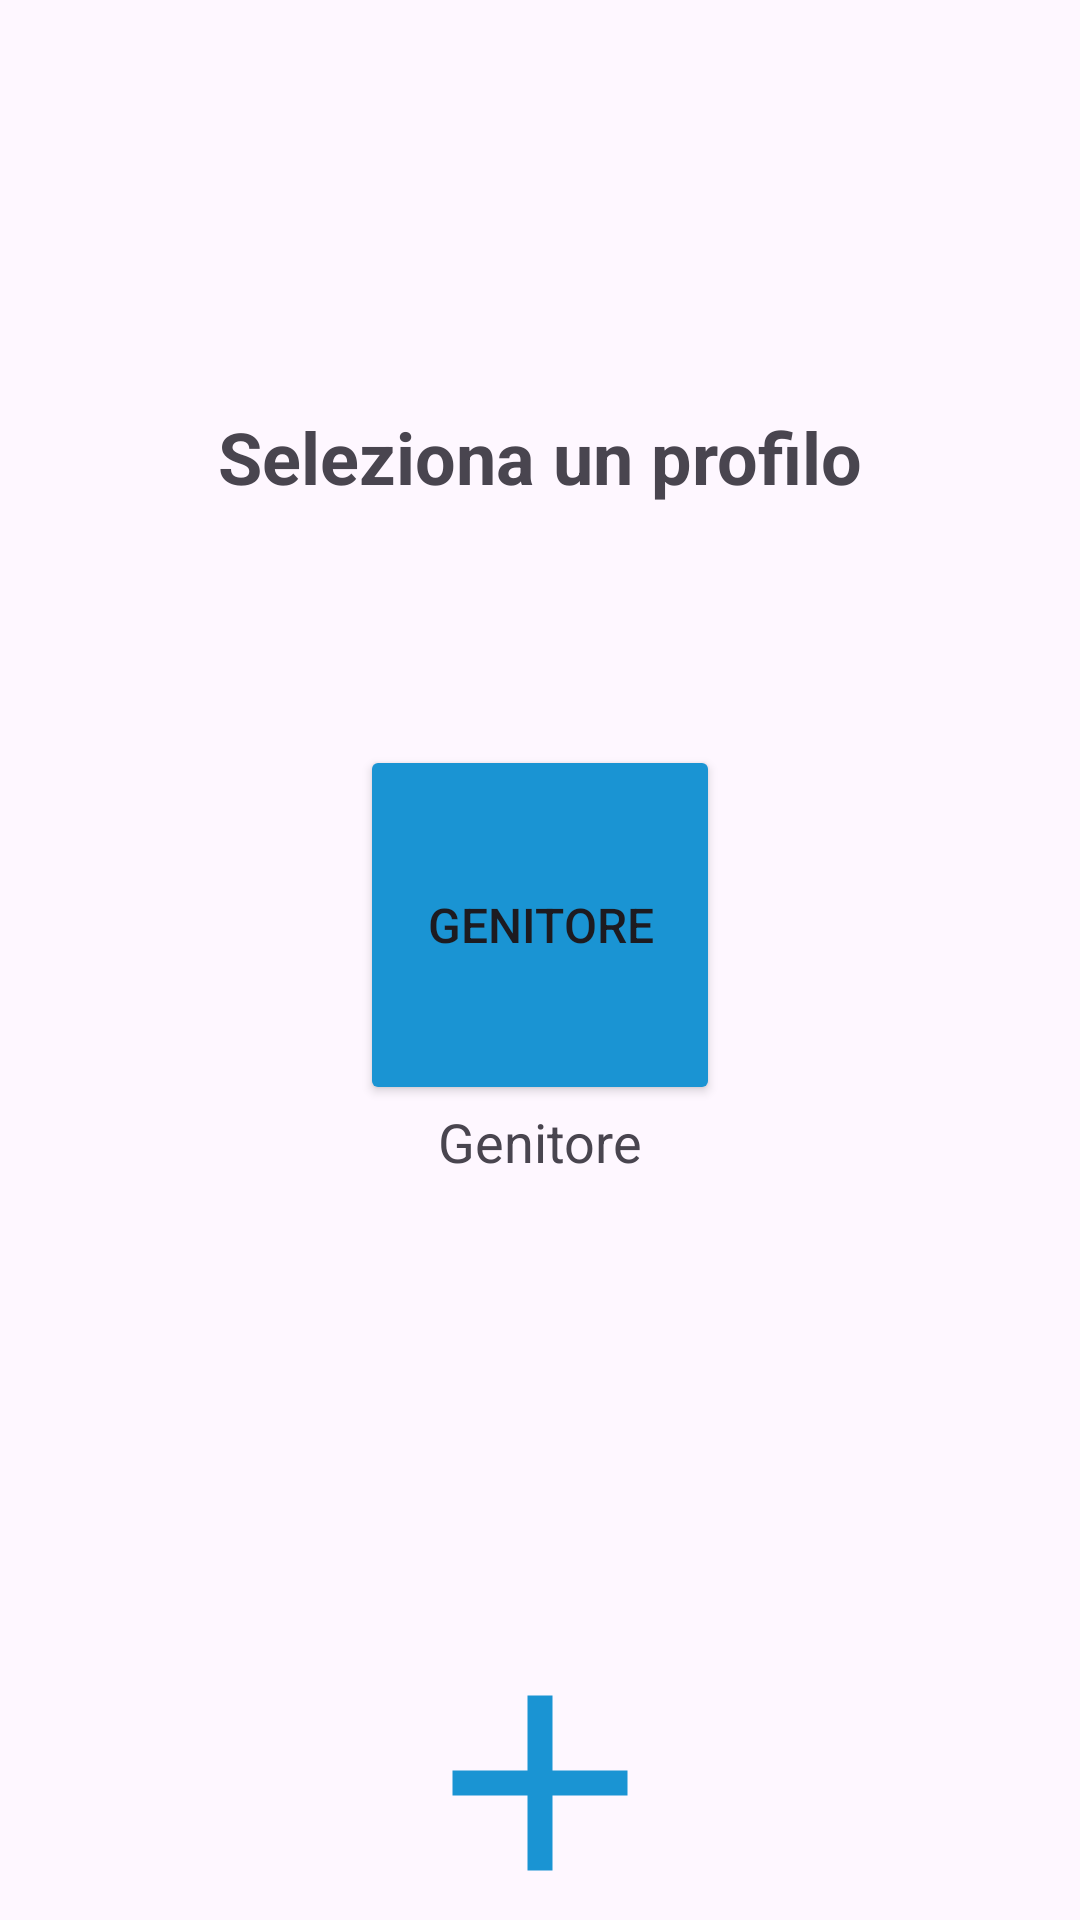

Icons on this 1080×1920 Android screen, each with the point to tap as (x,y):
add: (540,1783)
